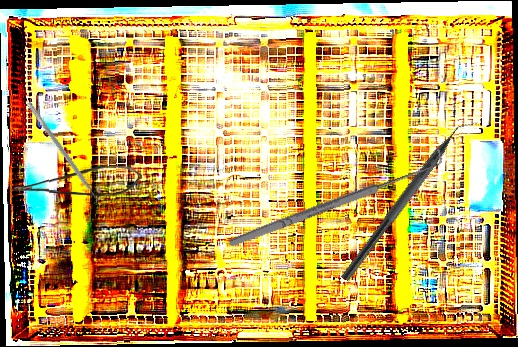Chopper: (340, 110, 481, 290)
Hook Surgical: (223, 147, 448, 251)
Micro Scissor: (12, 161, 144, 199)
Spatula Surgical: (22, 101, 103, 207)
